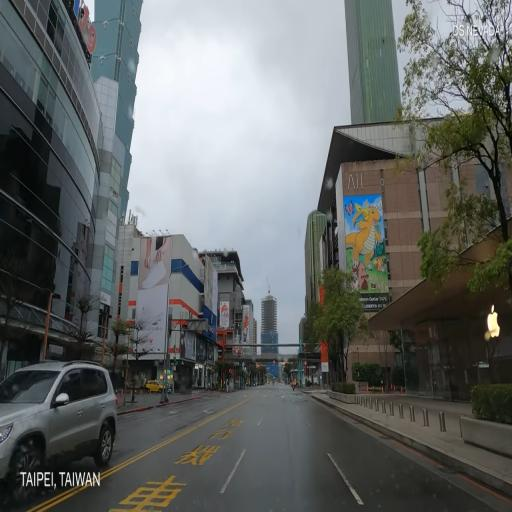Car: (0, 355, 118, 509), (145, 376, 164, 398)
